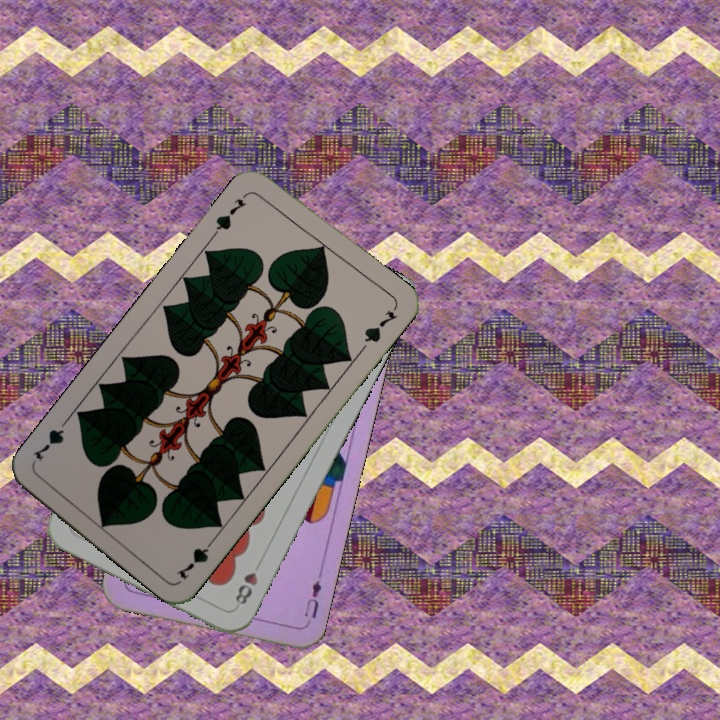EU: (300, 569, 325, 621)
G7: (172, 533, 219, 583), (209, 188, 251, 238)
H8: (231, 568, 261, 608)
